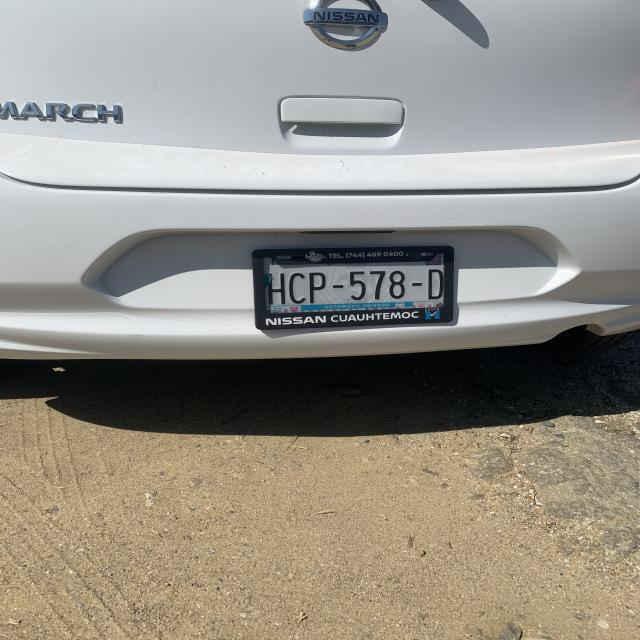placa: (260, 268, 453, 306)
